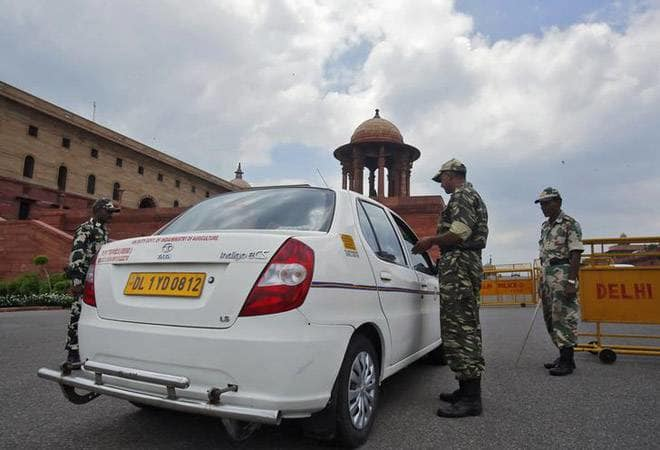number_plate: (122, 268, 209, 303)
